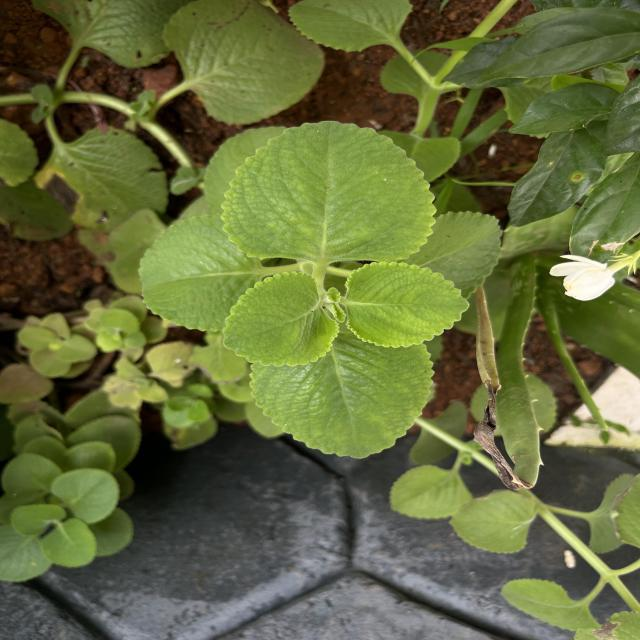Plectranthus barbatus: (218, 119, 438, 264), (248, 345, 436, 460), (160, 0, 326, 127), (138, 212, 263, 332), (222, 270, 341, 368), (344, 260, 471, 350), (447, 490, 539, 555), (500, 578, 601, 632), (388, 464, 472, 520), (50, 466, 121, 524), (42, 518, 98, 568)
